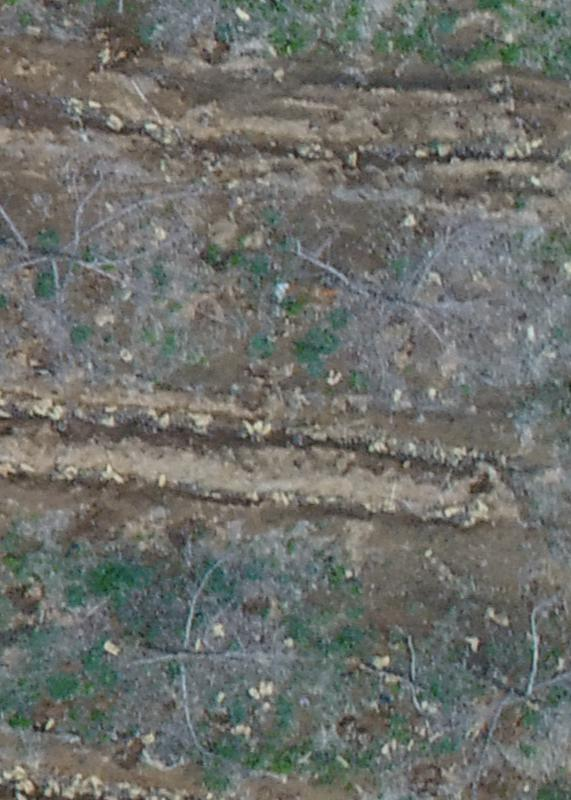apple: (10, 95, 195, 362), (92, 549, 296, 771), (274, 216, 488, 362), (416, 590, 561, 790)
